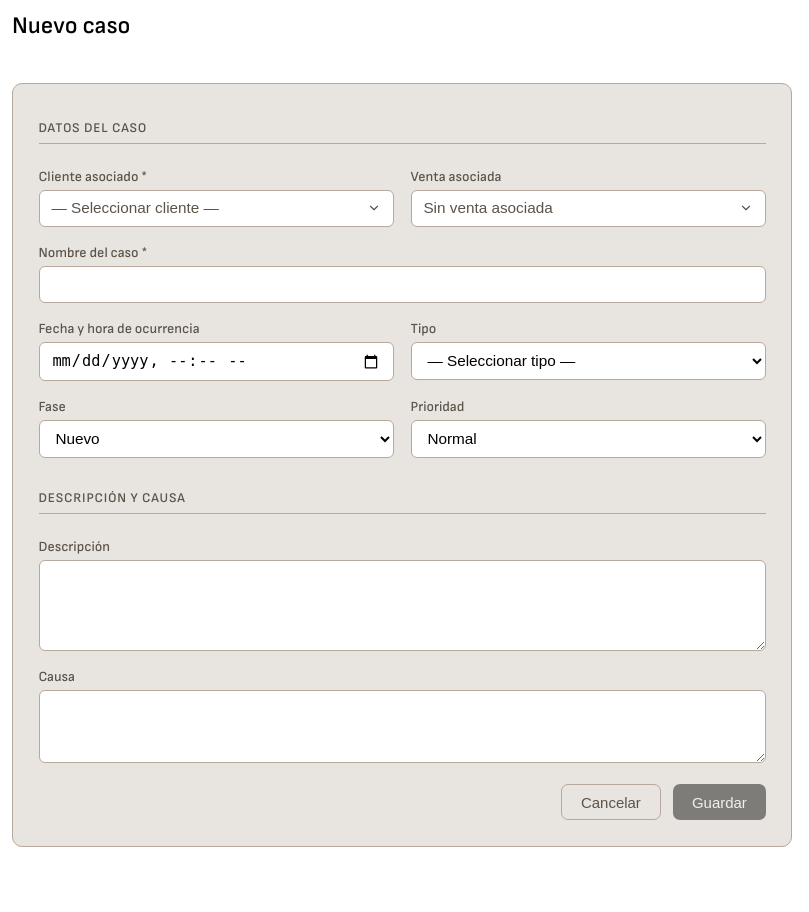
Test: CaseForm — new › hides supplier field when type changes away from WRONG_SETTLEMENT
Select "Liquidación errónea" in the dropdown labelled "Tipo" at (588, 361), box [410,342,766,380]
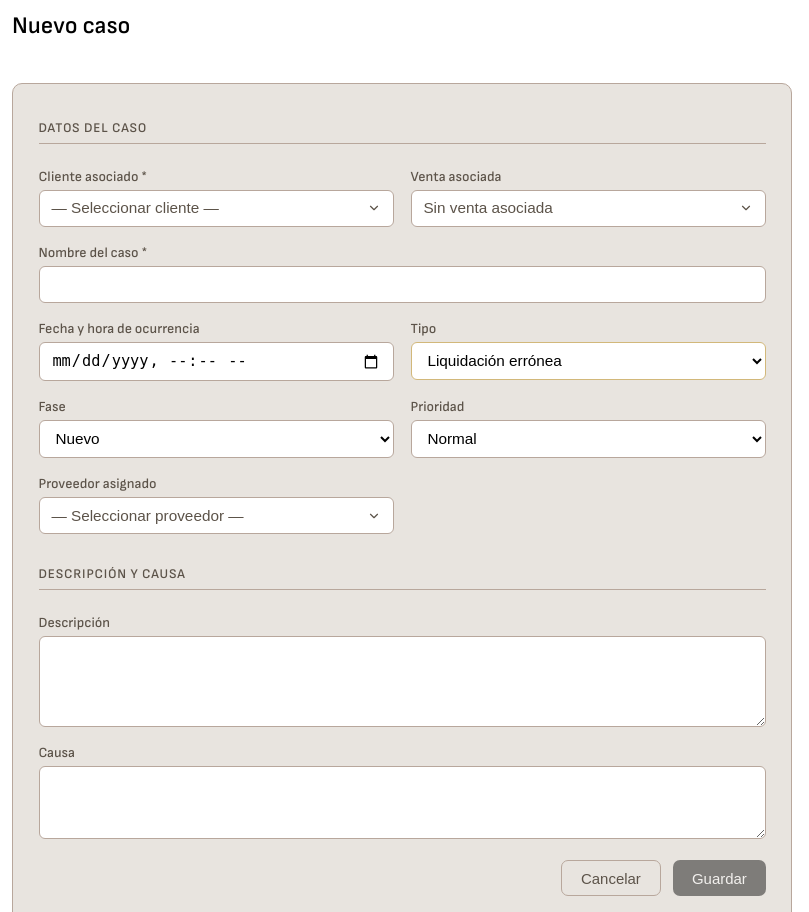
Check: the text "Proveedor asignado" is shown, box [38,475,156,492]
Select "Siniestro" in the dropdown labelled "Tipo" at (588, 361), box [410,342,766,380]
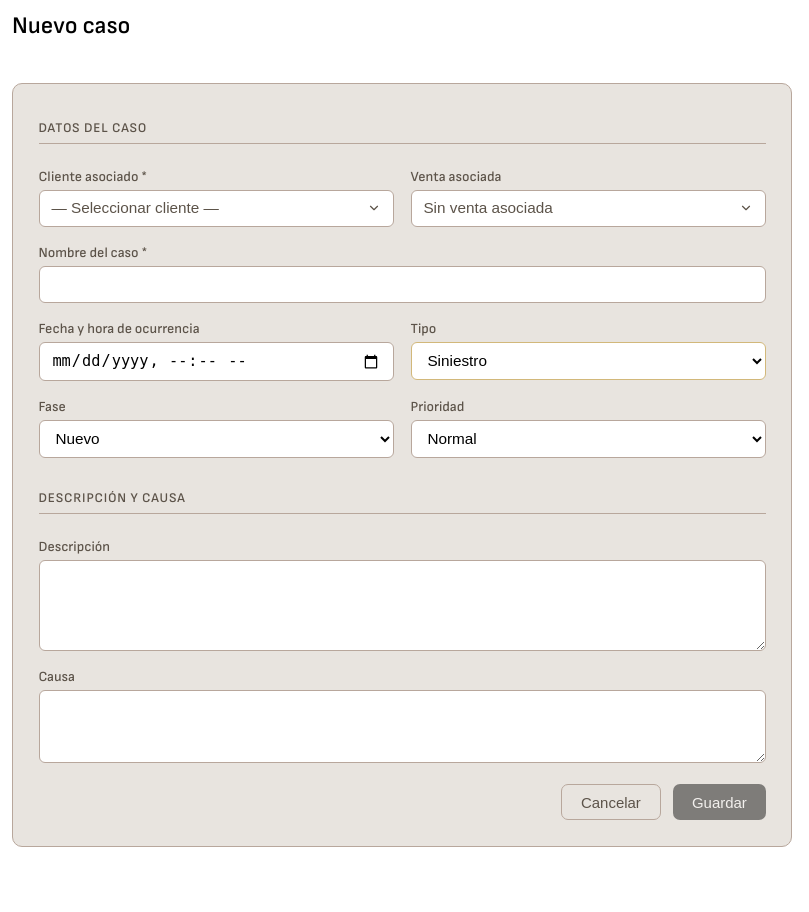
Check: the text "Proveedor asignado" is gone
